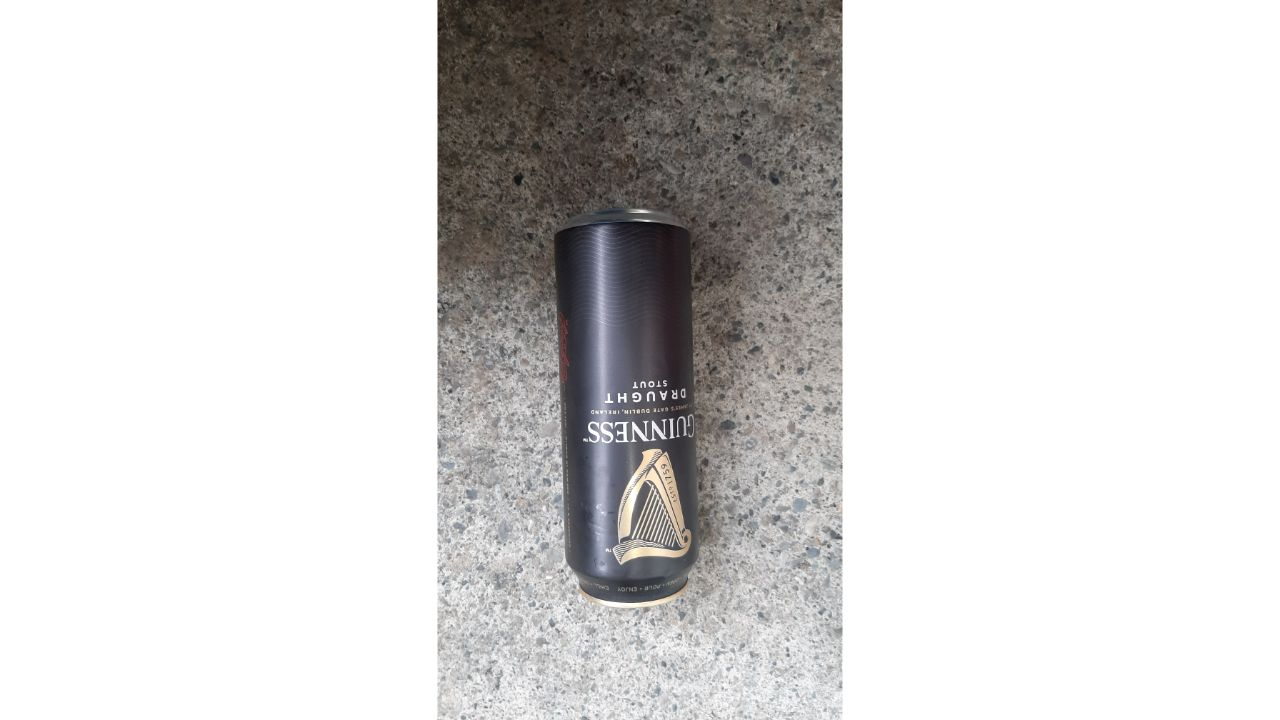Can: (532, 194, 720, 622)
